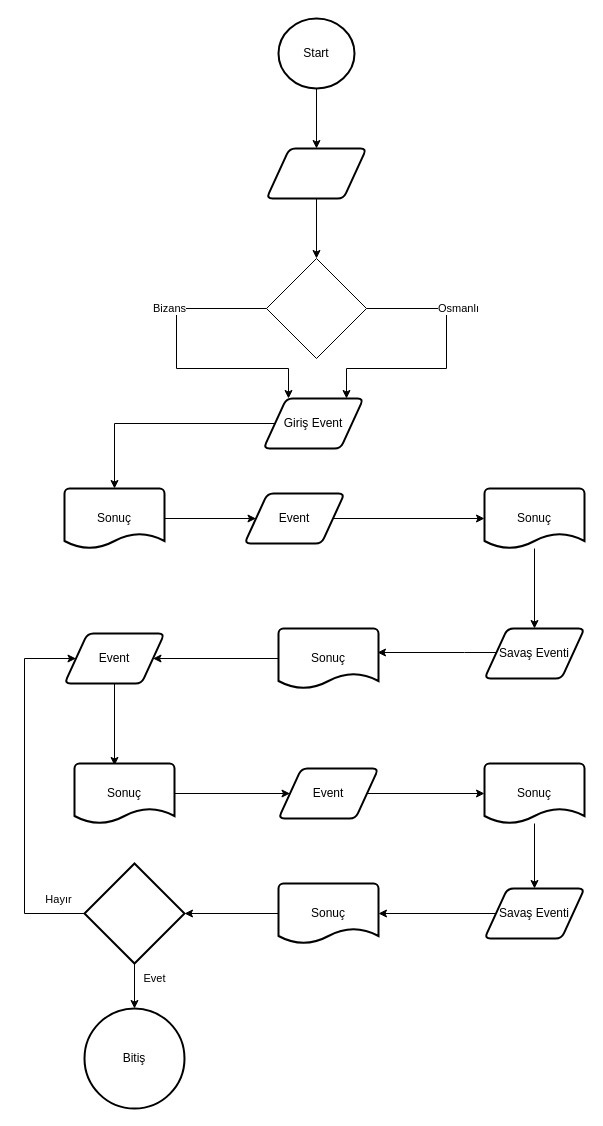
The diagram is 603 pixels wide and 1126 high, and some of its shapes have lost their labels. The centre of each missing label's shape, as x and y in pixels:
"Ülke" belongs at pixel 316 308.
"Ülke Seçimi" belongs at pixel 316 173.
"Ülkelerden biri yok olur" belongs at pixel 134 913.
